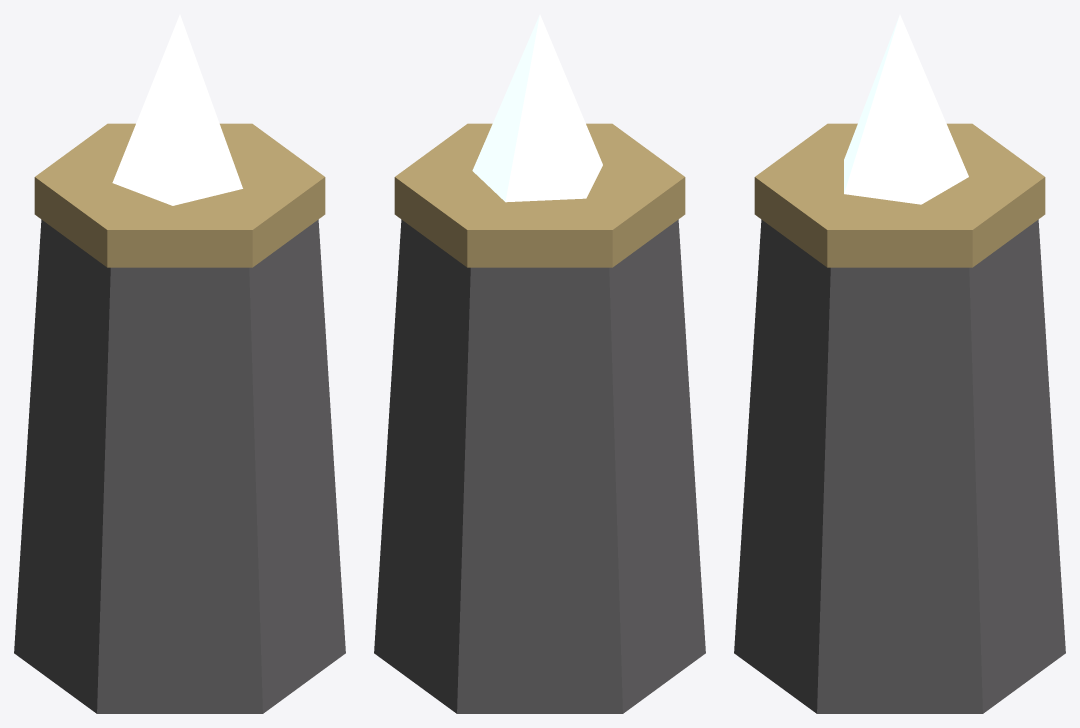
File: ward_post.glb
3 views of the same model, side by side, from view 1: azimuth 30°, elevation 25°; view 2: azimuth 150°, elevation 25°; view 3: azimuth 270°, elevation 25° (orthographic).
Parts seen in each view (by area): view 1: ward_post; view 2: ward_post; view 3: ward_post.
Boxes of the visible parts, <box> form: ward_post: <box>14,14,345,713</box>; ward_post: <box>374,14,705,713</box>; ward_post: <box>734,14,1065,713</box>.
Bounding box in the file's own units: 0.4157 × 1.02 × 0.48.
